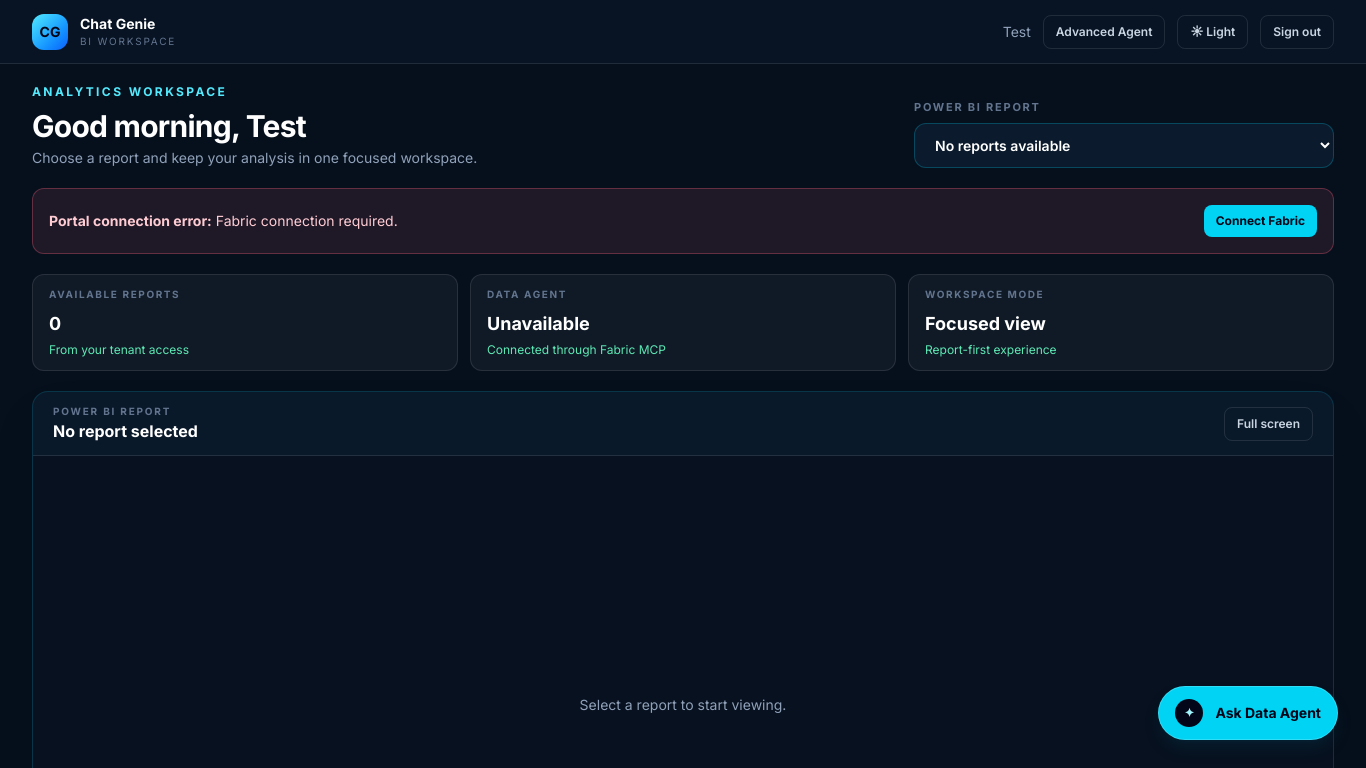
Test case: Fabric portal reconnection › reloads discovery after sign-in without navigating away from the Fabric iframe
The image size is (1366, 768).
Click the button "Connect Fabric".
click(1260, 221)  # box [1204,205,1317,237]
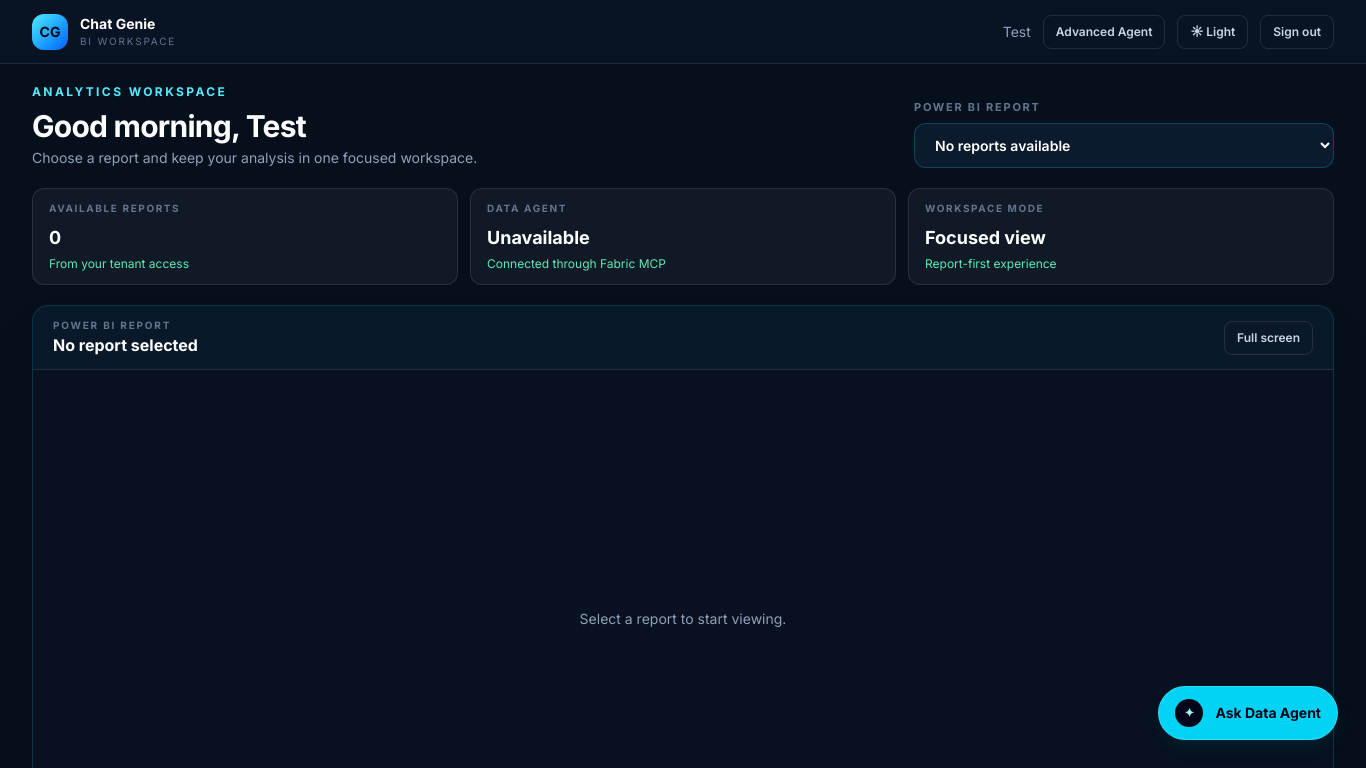
Expected: the message "Portal connection error: Fabric connection required. Connect Fabric" is gone
